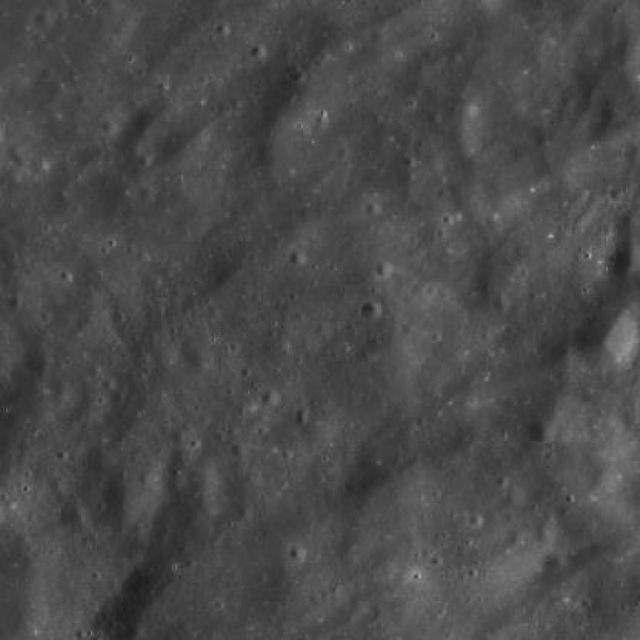crater: (91, 132, 220, 262), (344, 442, 432, 530), (574, 306, 640, 372), (167, 456, 220, 509), (474, 254, 526, 303), (101, 472, 150, 522), (164, 121, 210, 167), (232, 191, 272, 231), (544, 337, 582, 375), (607, 241, 640, 278), (178, 336, 212, 370), (589, 114, 622, 148), (132, 105, 166, 138), (56, 504, 90, 536), (611, 36, 640, 69), (26, 348, 54, 376), (528, 418, 554, 444), (543, 550, 568, 575), (615, 212, 640, 236), (48, 378, 72, 400), (359, 299, 381, 321), (34, 11, 54, 31), (259, 388, 279, 408), (136, 184, 156, 203), (533, 525, 553, 544), (289, 249, 308, 268), (289, 544, 308, 562), (503, 486, 522, 504), (494, 296, 511, 313), (4, 142, 21, 158), (376, 260, 392, 276), (100, 120, 116, 136), (508, 528, 524, 544), (231, 442, 246, 458), (170, 430, 184, 446)
